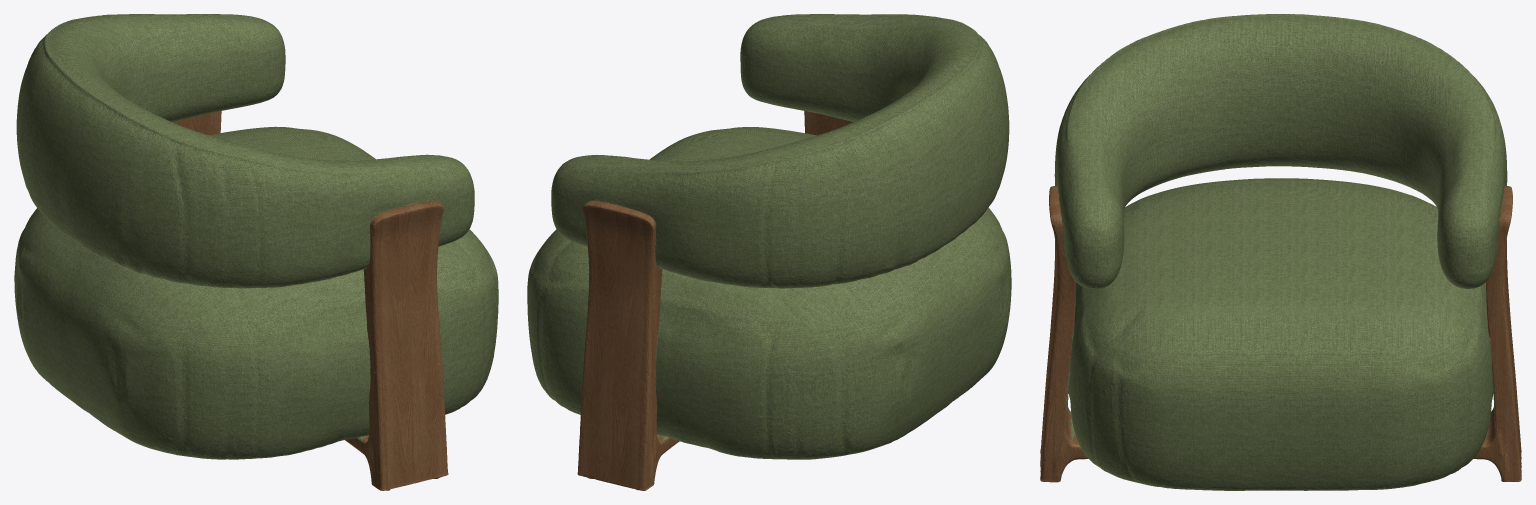
The model's file is burgandywoodarmchair.glb.
The picture shows the model from 3 angles, left to right: view 1: azimuth 30°, elevation 25°; view 2: azimuth 150°, elevation 25°; view 3: azimuth 270°, elevation 25°; orthographic projection.
Visible parts, largest first — view 1: world.006; view 2: world.006; view 3: world.006.
Boxes of the visible parts, x1,y1,x2,y2 form: world.006: (14,14,498,490); world.006: (527,14,1011,490); world.006: (1040,14,1521,490).
Size of the model in its own units: 0.8947 by 0.8121 by 1.
2 materials, 2 textured.
